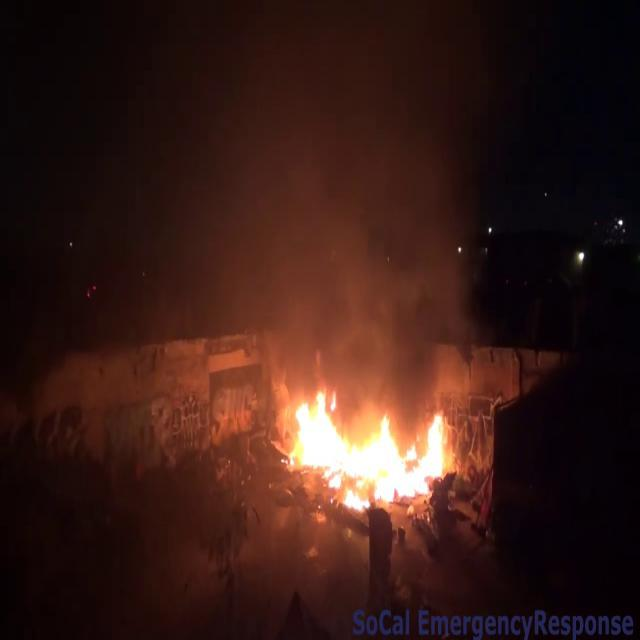Fire: (259, 374, 464, 529)
Smoke: (93, 0, 500, 442)
